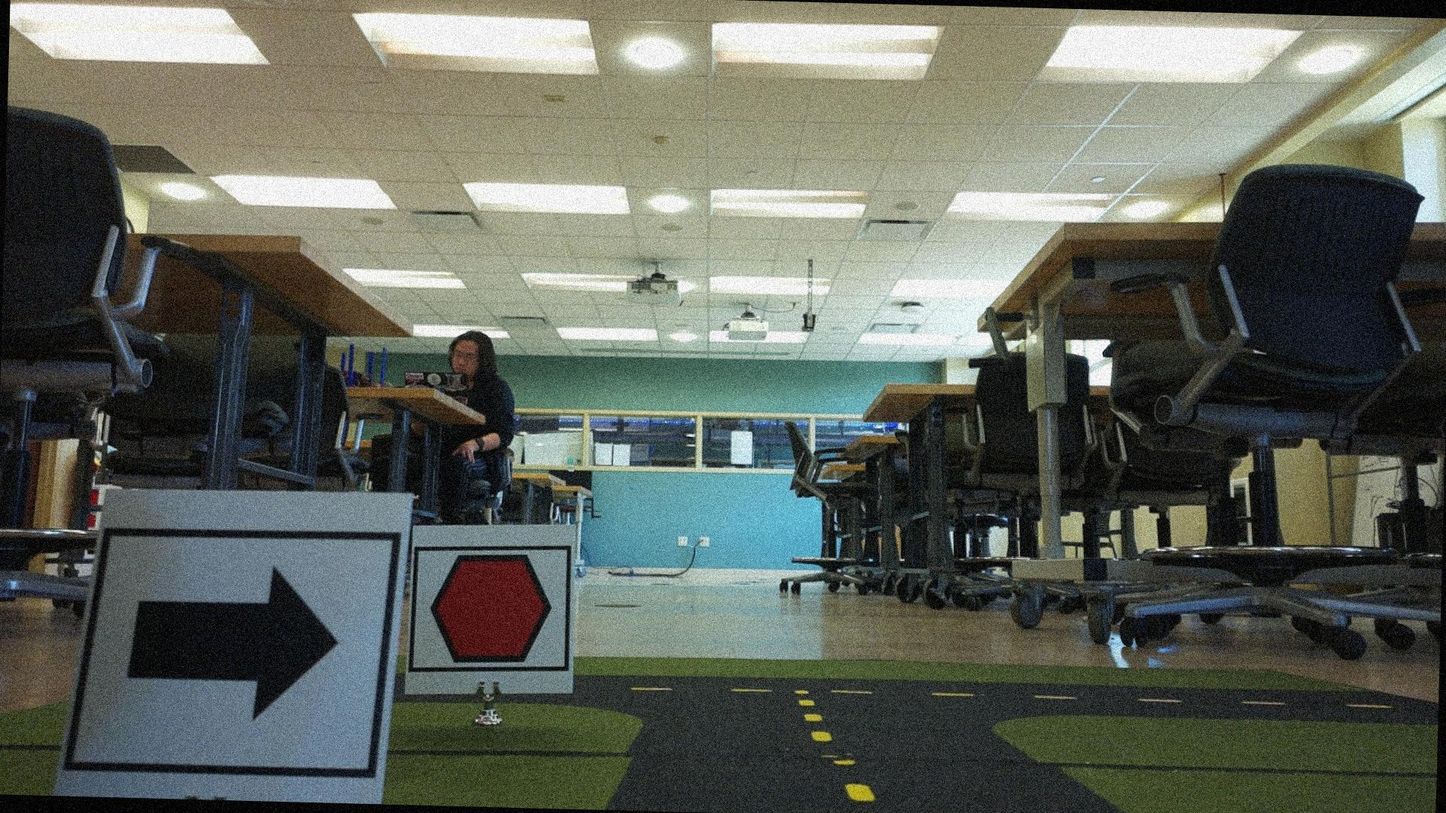stop: (413, 546, 568, 671)
turnright: (96, 528, 388, 784)
yellowline: (795, 697, 875, 805)
